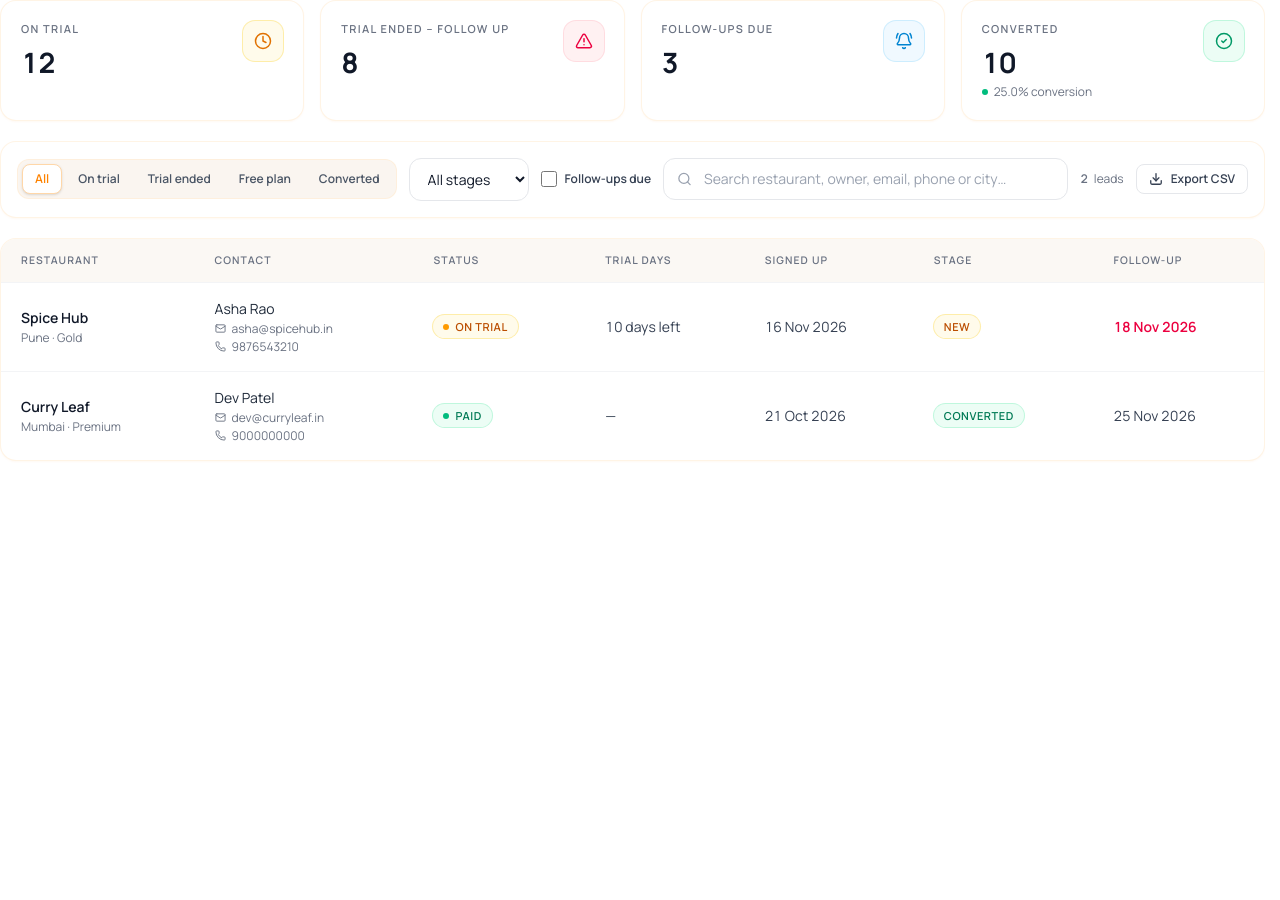
Scenario: SignupLeads — lead modal › adding a note POSTs to /notes and shows the returned history newest first; reminders listed separately
Click the text "Spice Hub" at (55, 317), box [21,308,88,326]
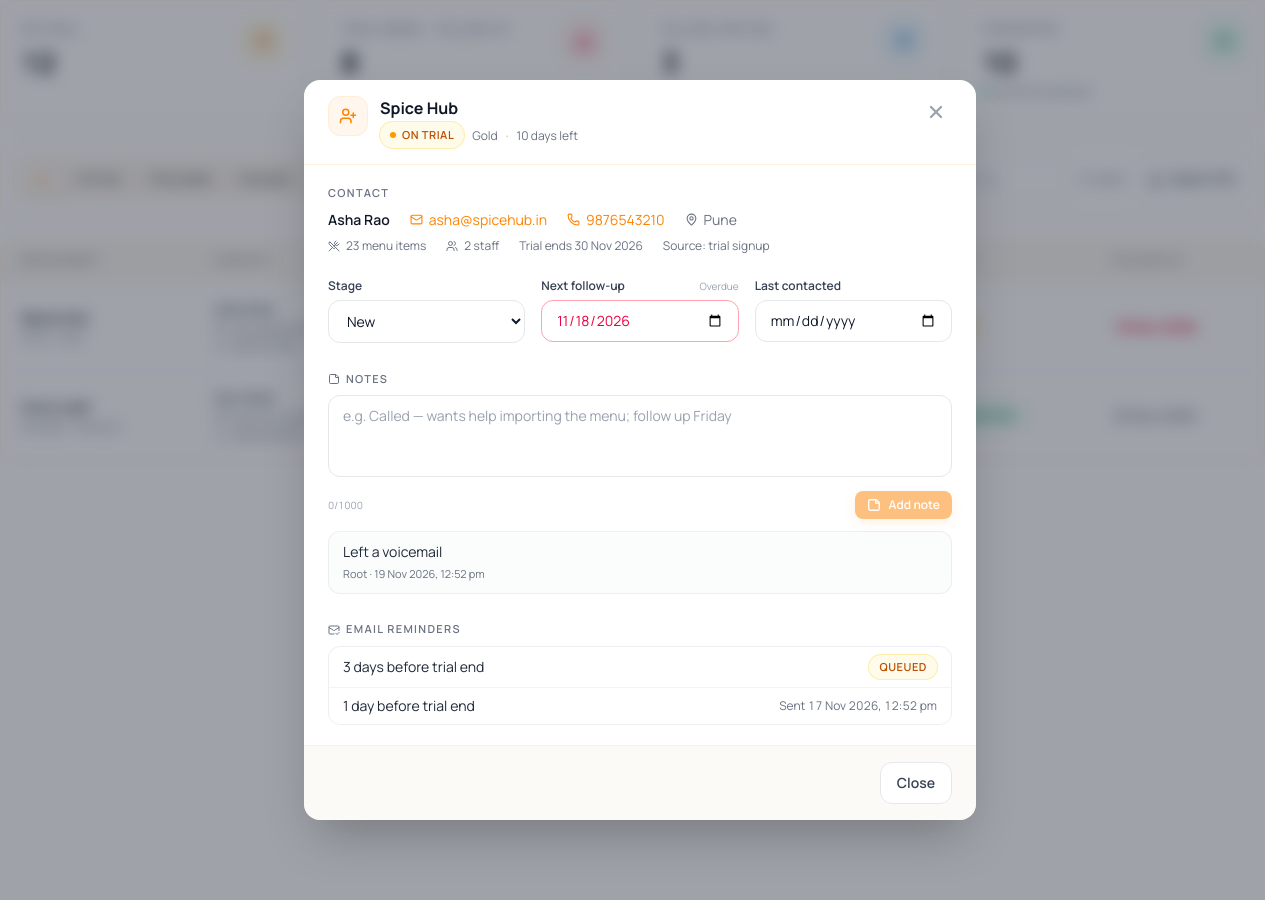
Check: the dropdown labelled "Stage" is shown, box [328,300,525,343]
Check: the text "Left a voicemail" is shown, box [343,542,442,561]
Check: the text "3 days before trial end" is shown, box [343,657,484,677]
Replace the text in the text box named "New note" with "  Demo booked for Friday " at (640, 436), box [328,395,952,477]
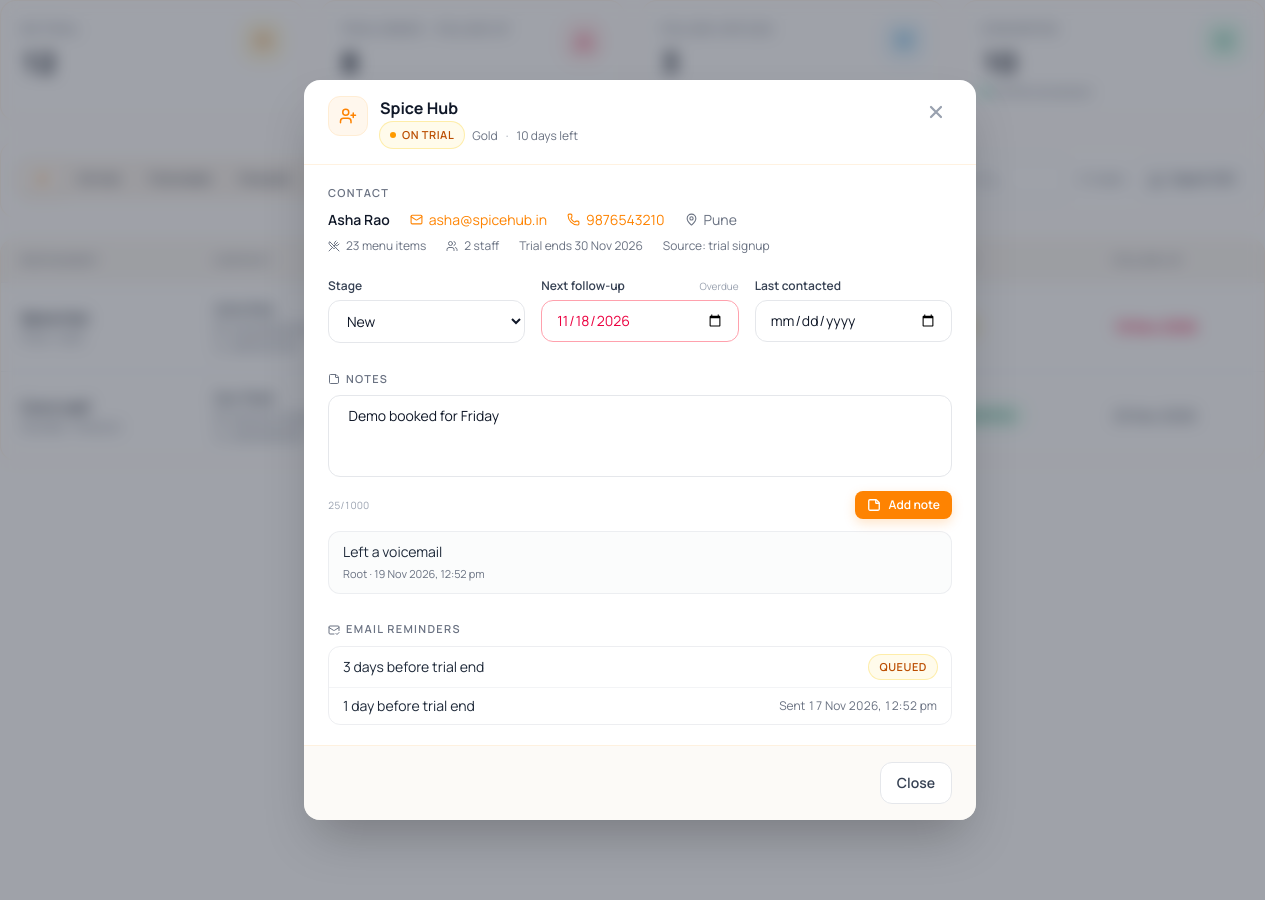
Click the button "Add note" at (903, 505), box [854,491,952,519]
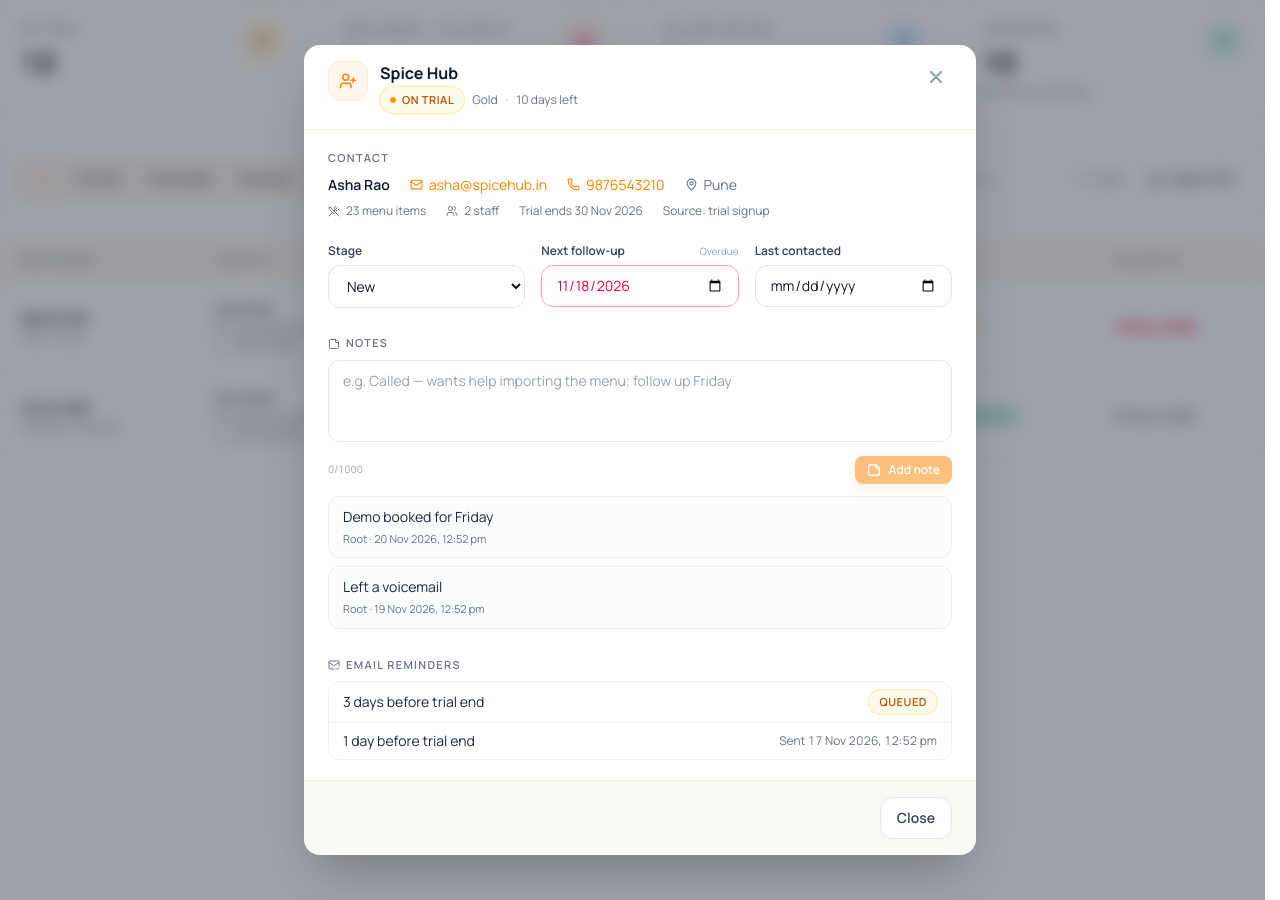
Check: the text "Demo booked for Friday" is shown, box [343,507,493,526]
Check: the text box named "New note" is empty, box [328,360,952,442]
